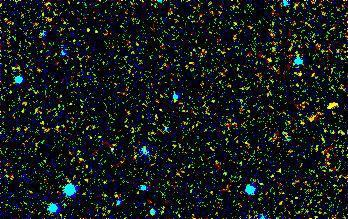star: (315, 91, 345, 121)
